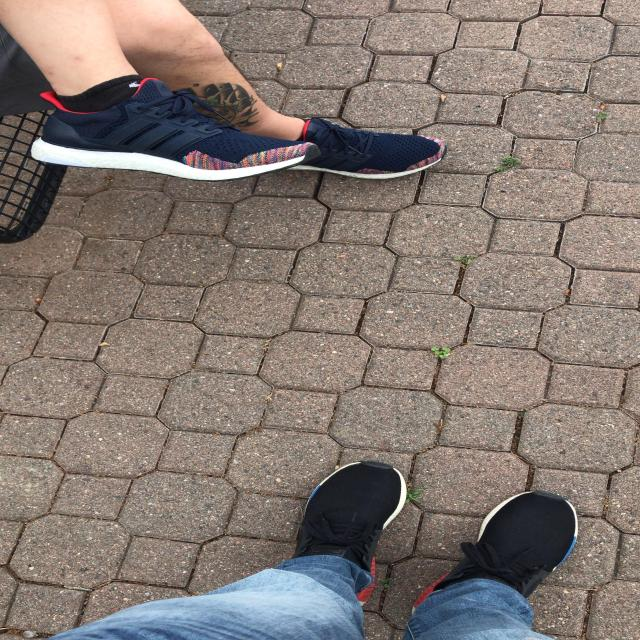shoes: (13, 62, 330, 192), (264, 452, 431, 624), (417, 486, 584, 618), (282, 101, 459, 189)
